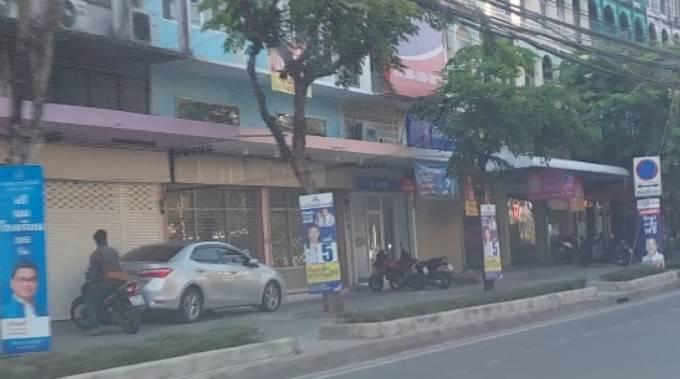Banner: (1, 164, 50, 355), (299, 194, 342, 292), (637, 200, 662, 268), (481, 205, 503, 279)
